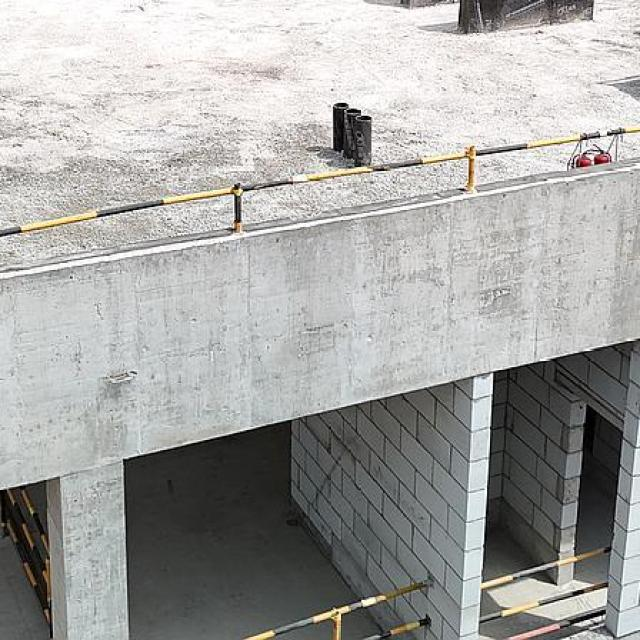edge_guardrail: (0, 125, 640, 241), (479, 544, 620, 640), (240, 575, 433, 640), (0, 485, 53, 640)
